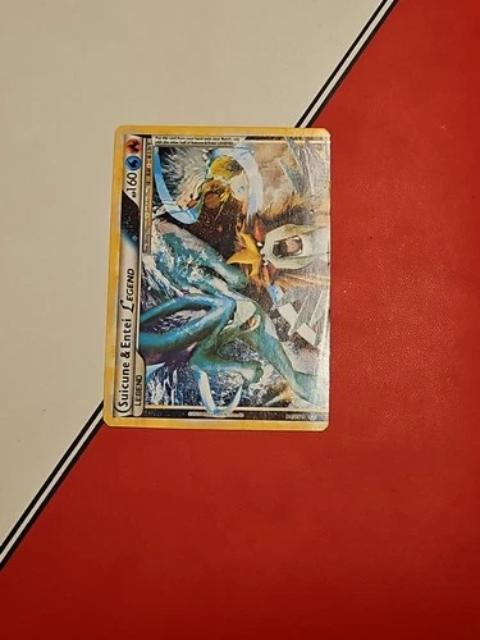Card: (100, 122, 333, 436)
Name: (114, 259, 137, 412)
